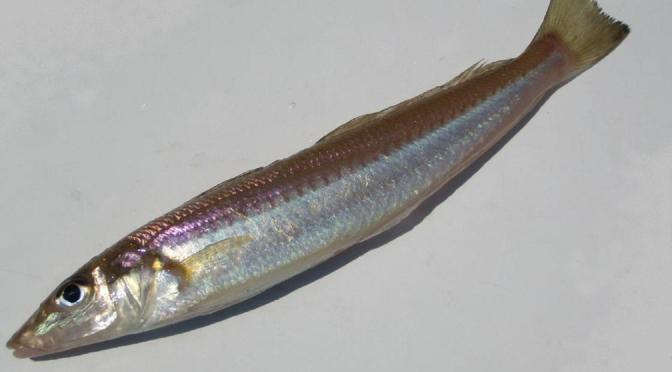kiss: (8, 16, 635, 363)
